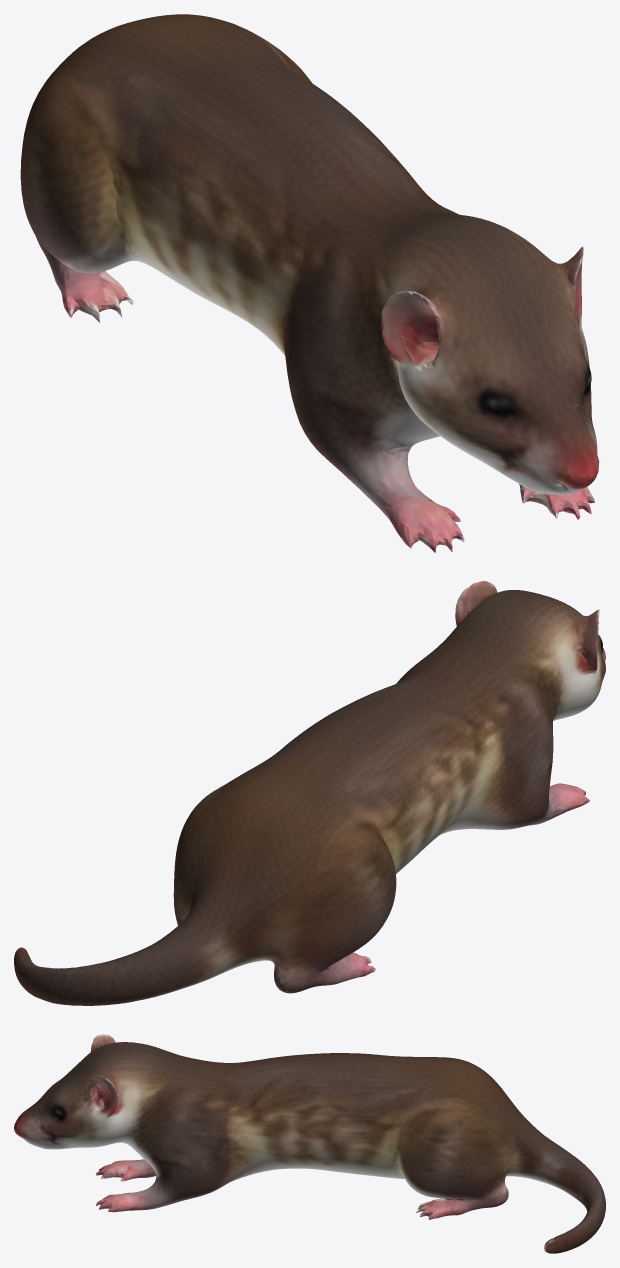
File: ferret.glb
3 renders of one model, top to bottom at view 1: azimuth 30°, elevation 25°; view 2: azimuth 150°, elevation 25°; view 3: azimuth 270°, elevation 25°, orthographic. The views are drawn at different scales.
Visible parts, largest first — view 1: model; view 2: model; view 3: model.
Boxes of the visible parts, left/top/right/bottom form: model: left=20, top=14, right=599, bottom=552; model: left=14, top=581, right=605, bottom=1005; model: left=14, top=1034, right=605, bottom=1253.
Bounding box in the file's own units: 0.7464 × 0.504 × 1.9.
Materials: 1 (1 with a texture image).
